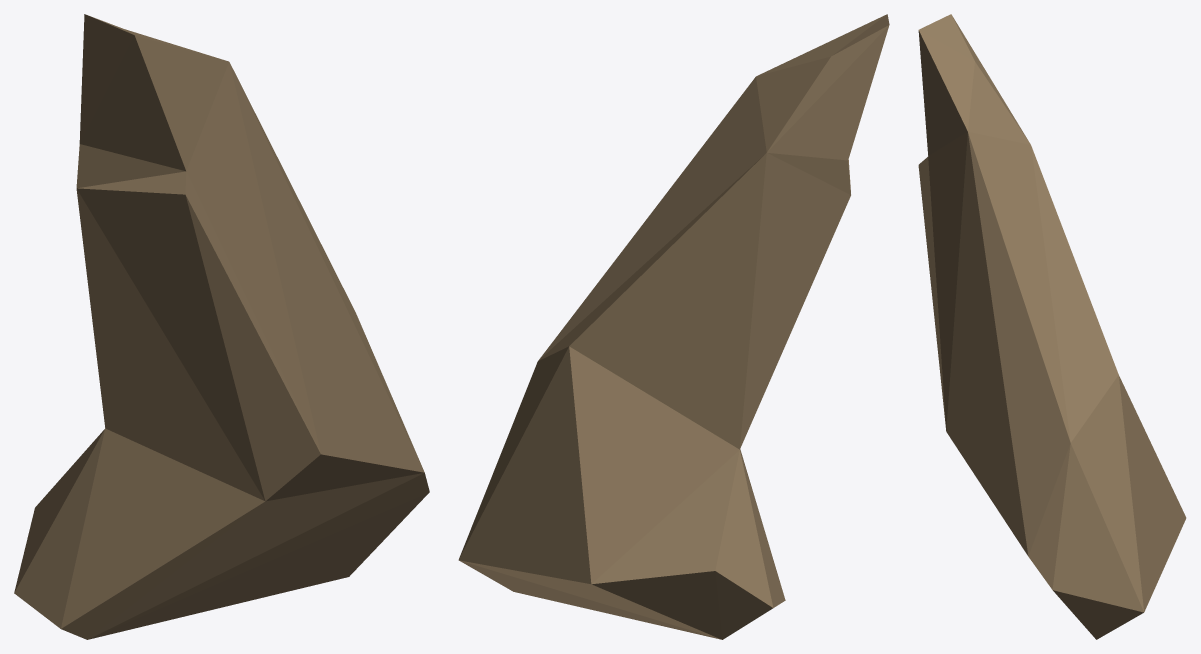
The model's file is Rock13.fbx.
The picture shows the model from 3 angles, left to right: view 1: azimuth 30°, elevation 25°; view 2: azimuth 150°, elevation 25°; view 3: azimuth 270°, elevation 25°; orthographic projection. The views are drawn at different scales.
Visible parts, largest first — view 1: Rock13; view 2: Rock13; view 3: Rock13.
Part boxes in pixels (<box>): Rock13: <box>14,14,429,639</box>; Rock13: <box>458,14,889,639</box>; Rock13: <box>918,14,1186,639</box>.
Bounding box in the file's own units: 14.87 × 24.77 × 11.99.
